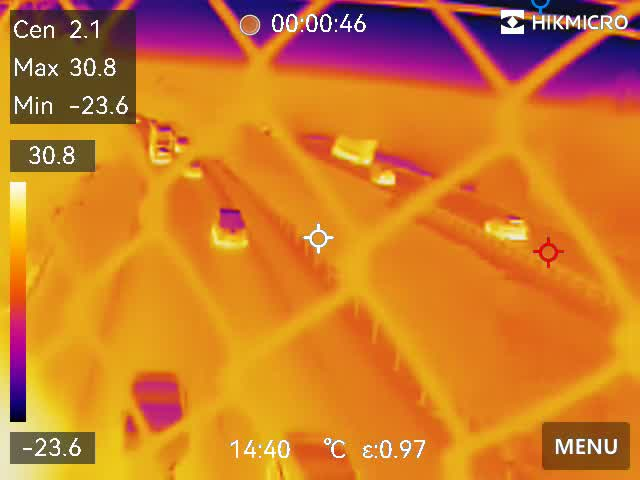heavyTruck: (326, 133, 383, 164), (149, 121, 180, 171)
vehicle: (118, 367, 192, 478), (266, 429, 368, 480), (209, 203, 246, 247), (482, 211, 532, 243), (367, 168, 401, 186), (184, 157, 206, 184), (175, 135, 196, 153)
